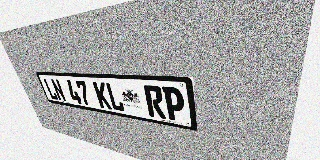4: (65, 80, 83, 104)
7: (74, 80, 93, 106)
K: (92, 82, 112, 110)
L: (105, 82, 125, 112), (43, 78, 59, 100)
N: (50, 79, 67, 102)
P: (162, 86, 186, 122)
R: (143, 85, 166, 119)
